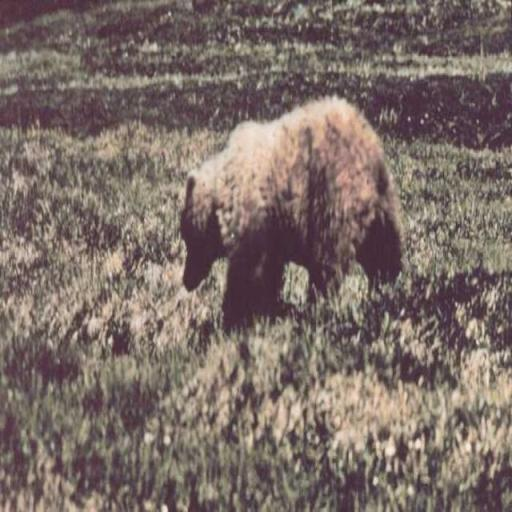Bear: (178, 92, 404, 334)
